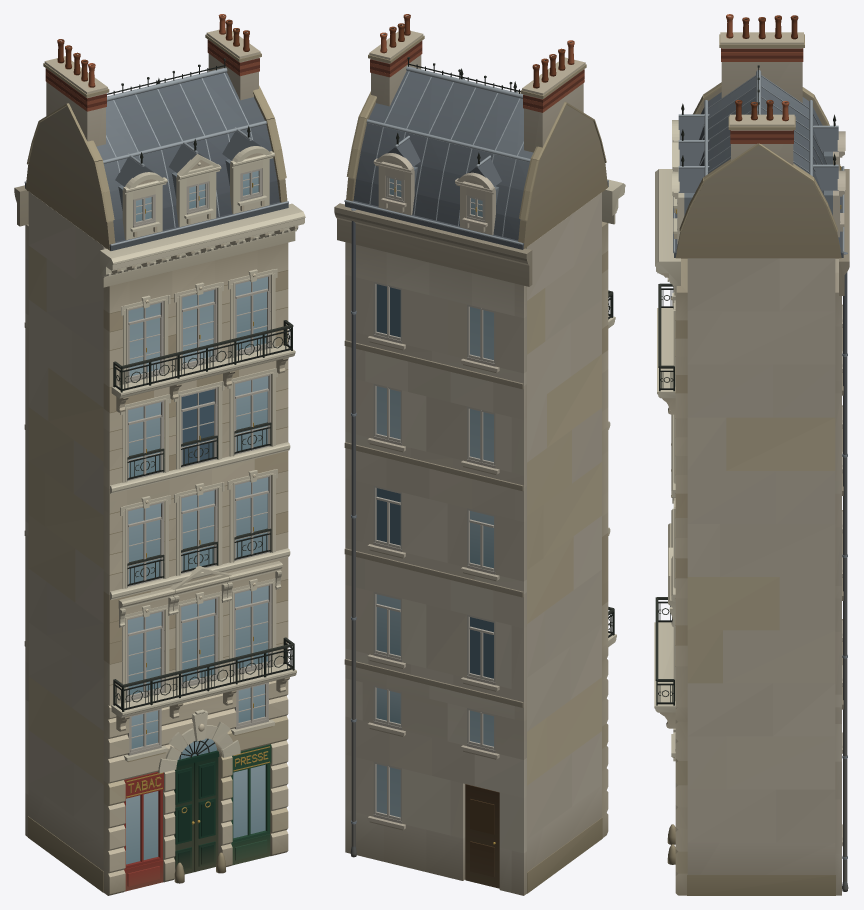
File: haussmann-apartment.glb
3 renders of one model, left to right at view 1: azimuth 30°, elevation 25°; view 2: azimuth 150°, elevation 25°; view 3: azimuth 270°, elevation 25°, orthographic.
Parts seen in each view (by area): view 1: haussmann_apartment_01; view 2: haussmann_apartment_01; view 3: haussmann_apartment_01.
Part boxes in pixels (bbox=[...]): haussmann_apartment_01: bbox=[14, 14, 305, 895]; haussmann_apartment_01: bbox=[334, 14, 625, 895]; haussmann_apartment_01: bbox=[654, 14, 849, 895].
Bounding box in the file's own units: 4.74 × 19.08 × 4.23.
